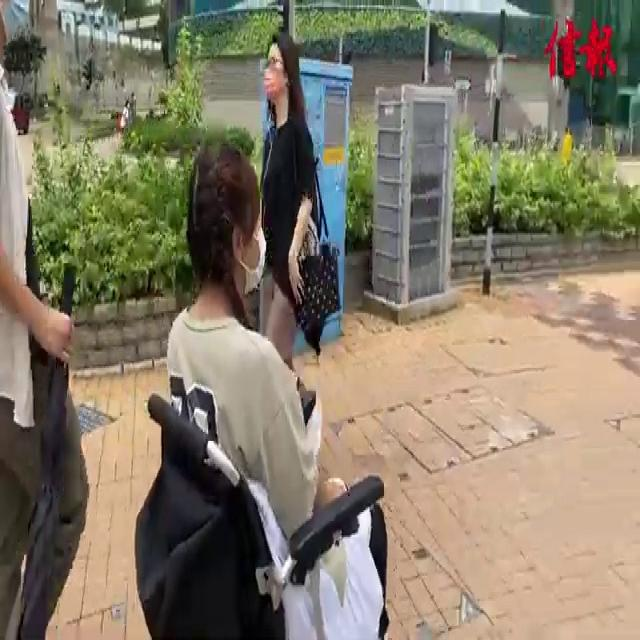wheelchairs: (128, 362, 411, 640)
